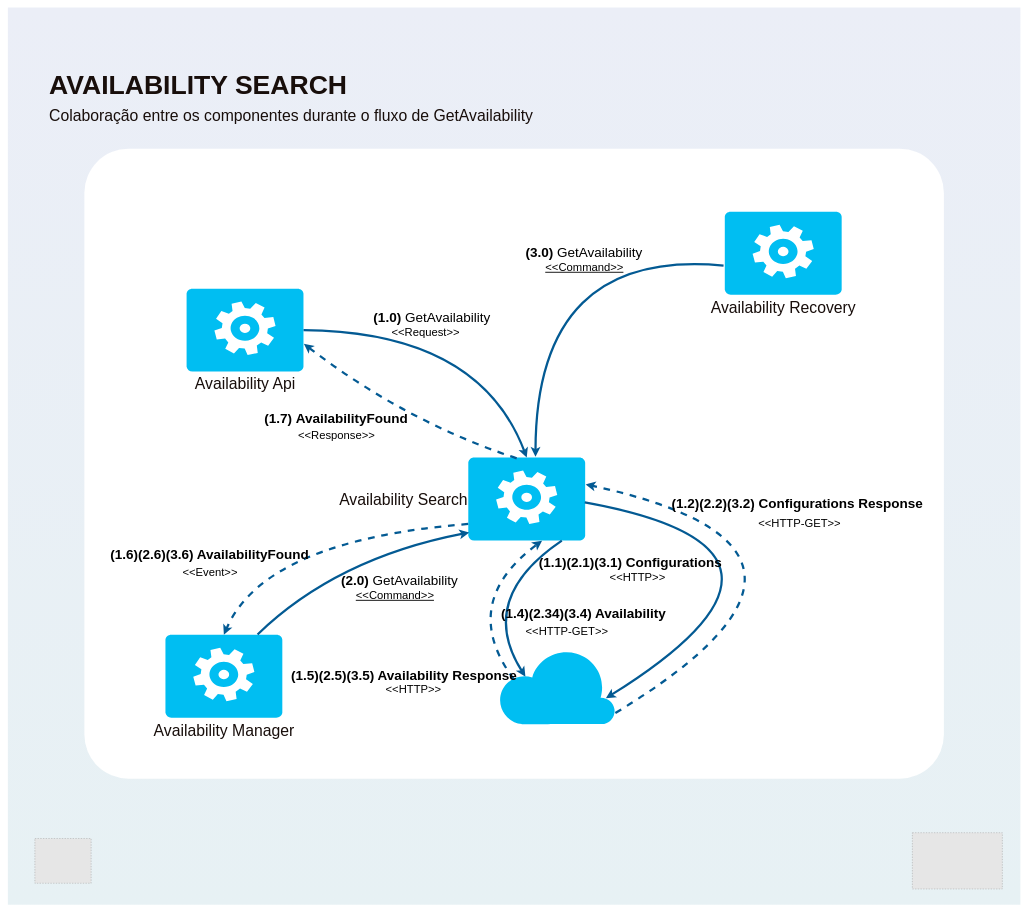
The diagram is 1028 pixels wide and 913 high, and some of its shapes have lost their labels. Grey dashed boxes stand in for pictures. The box of each missing label's shape, as (x1, y1, x2, y2) in pixels:
Availability | Price: (84, 148, 944, 778)
Partner Hub: (498, 648, 615, 724)
